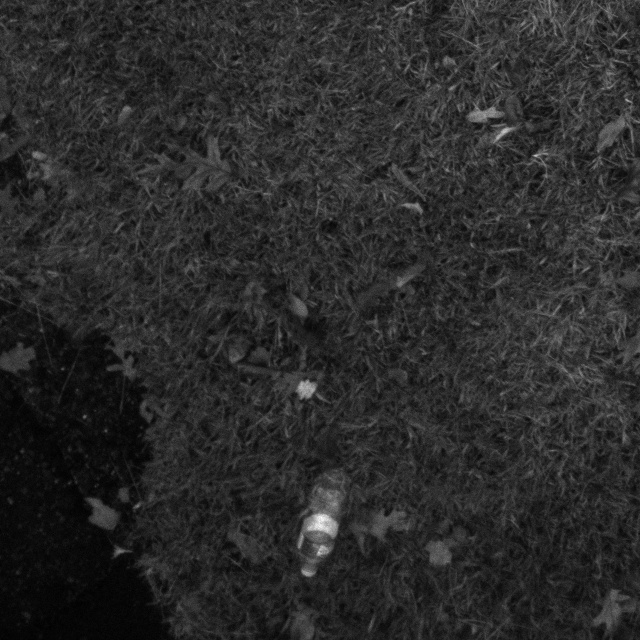bottle: (274, 461, 366, 595)
